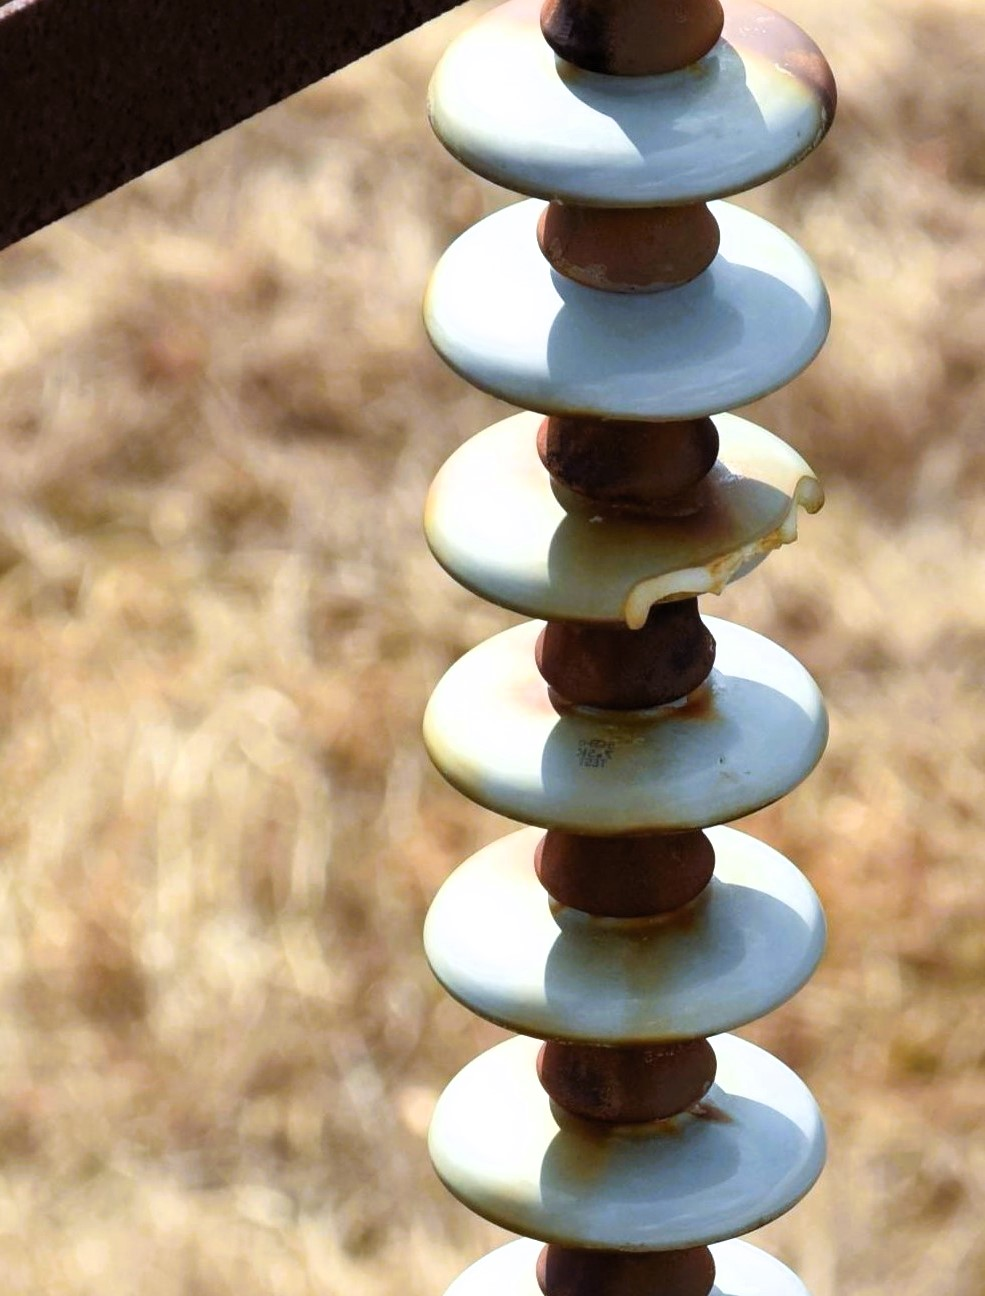insulator breakage: (400, 406, 854, 641)
